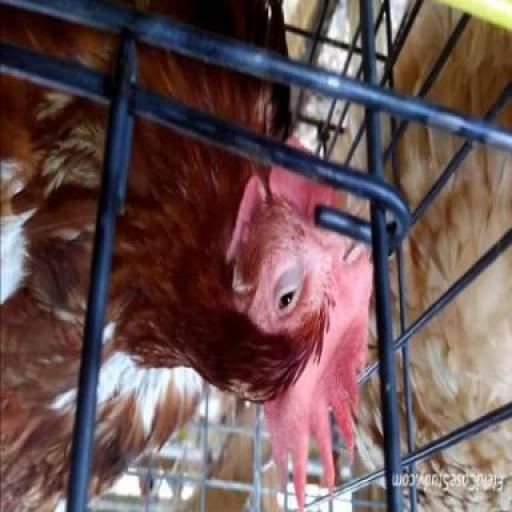disease: (249, 214, 359, 345)
